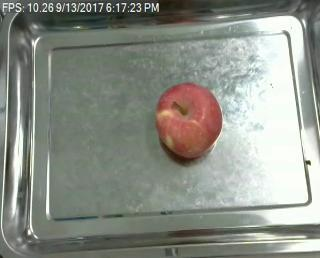apple: (155, 81, 224, 158)
